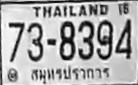3: (77, 20, 94, 59), (26, 22, 43, 61)
4: (114, 18, 132, 58)
7: (8, 20, 24, 62)
8: (59, 20, 74, 60)
9: (96, 19, 112, 59)
SPK: (27, 64, 114, 85)
